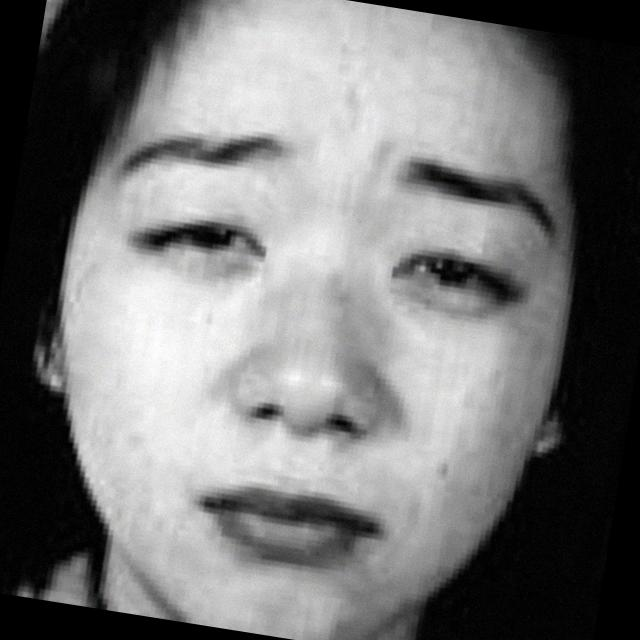sad: (9, 13, 595, 640)
